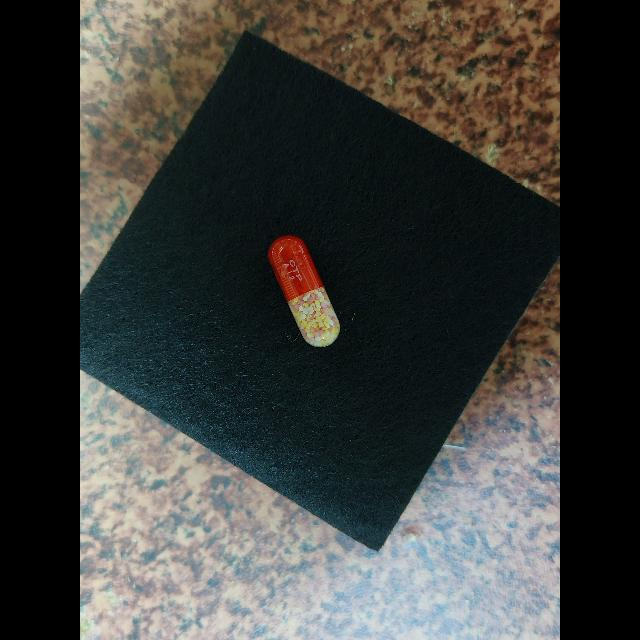Intact Capsule: (268, 235, 340, 347)
